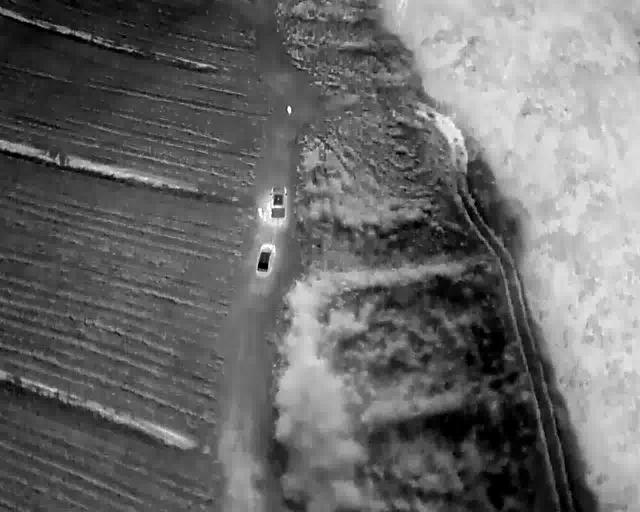car: (269, 185, 287, 219), (257, 242, 274, 275)
person: (256, 206, 263, 219), (265, 201, 271, 215), (261, 210, 267, 223), (286, 105, 292, 116)
